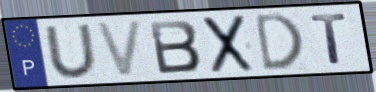B: (147, 18, 204, 76)
D: (253, 11, 305, 74)
T: (308, 11, 350, 66)
U: (42, 22, 101, 80)
V: (93, 18, 146, 79)
X: (201, 12, 256, 76)
